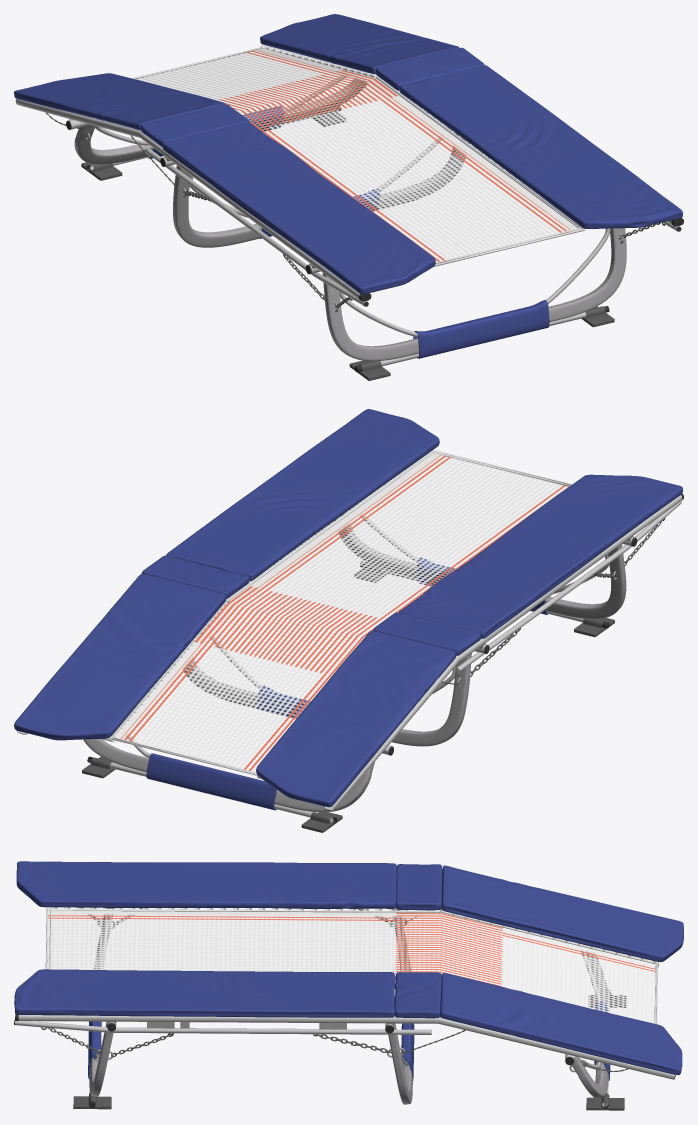
Rendered from DMT.glb.
3 views of the same model, one above another, from view 1: azimuth 30°, elevation 25°; view 2: azimuth 150°, elevation 25°; view 3: azimuth 270°, elevation 25° (orthographic). The views are drawn at different scales.
Visible parts, largest first — view 1: Plane, Plane.011, BEN.003, BEN.002, Plane.001, Plane.003, Plane.002, Plane.007, BézierCurve.005, Plane.006; view 2: Plane, Plane.011, BEN.003, BEN.009, Plane.001, Plane.003, Plane.002, Plane.006, Plane.007, BEN.005; view 3: Plane, Plane.011, Plane.001, BEN.003, Plane.002, Plane.003, Plane.006, Plane.007, BEN.005, BEN.002.
Part boxes in pixels (x1,y1,x2,y2): Plane: (14,14,682,294); Plane.011: (135,48,581,264); BEN.003: (74,78,626,361); BEN.002: (413,300,549,358); Plane.001: (15,99,671,299); Plane.003: (132,46,584,266); Plane.002: (146,148,681,306); Plane.007: (349,306,614,380); BézierCurve.005: (339,228,610,337); Plane.006: (81,108,345,180); Plane: (14,409,682,807); Plane.011: (112,451,570,772); BEN.003: (83,513,626,812); BEN.009: (146,753,276,810); Plane.001: (17,495,682,810); Plane.003: (109,450,571,775); Plane.002: (455,501,681,672); Plane.006: (82,756,342,832); Plane.007: (354,562,614,637); BEN.005: (257,684,310,718); Plane: (14,861,683,1075); Plane.011: (47,909,655,1023); Plane.001: (18,1015,675,1079); BEN.003: (89,908,608,1104); Plane.002: (14,1020,431,1036); Plane.003: (45,908,657,1024); Plane.006: (586,990,626,1110); Plane.007: (73,1093,111,1109); BEN.005: (401,1023,414,1080); BEN.002: (88,1021,101,1079).
Bounding box in the file's own units: 1.94 × 0.7215 × 3.63.
Materials: 10 (2 with a texture image).
